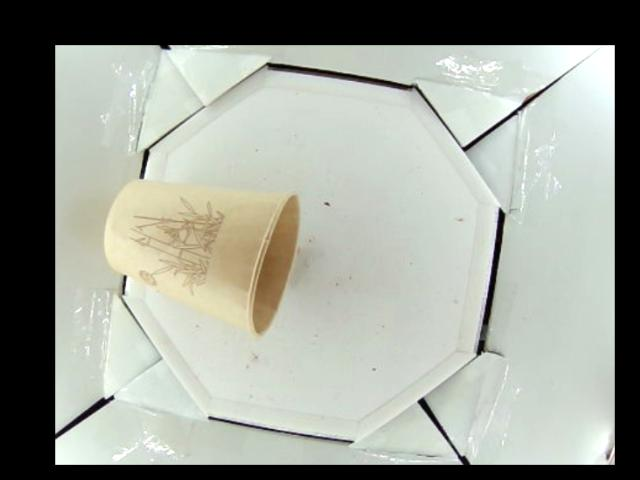Cup: (104, 178, 298, 334)
